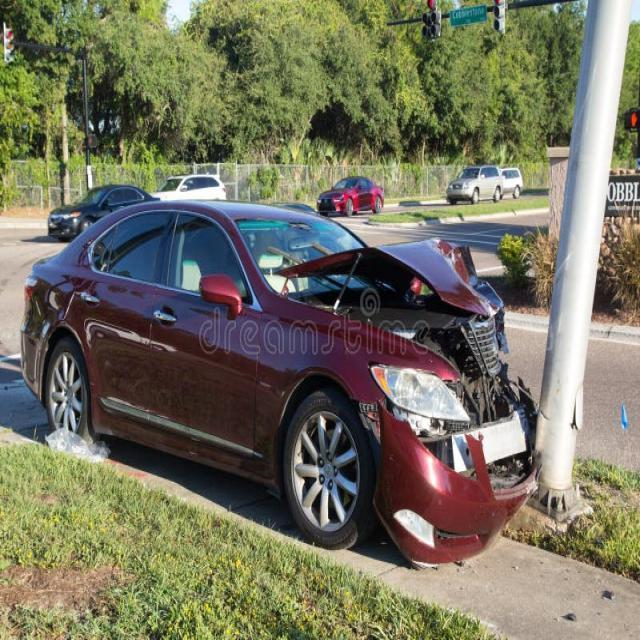car Accident hiting a tree: (24, 162, 616, 482)
